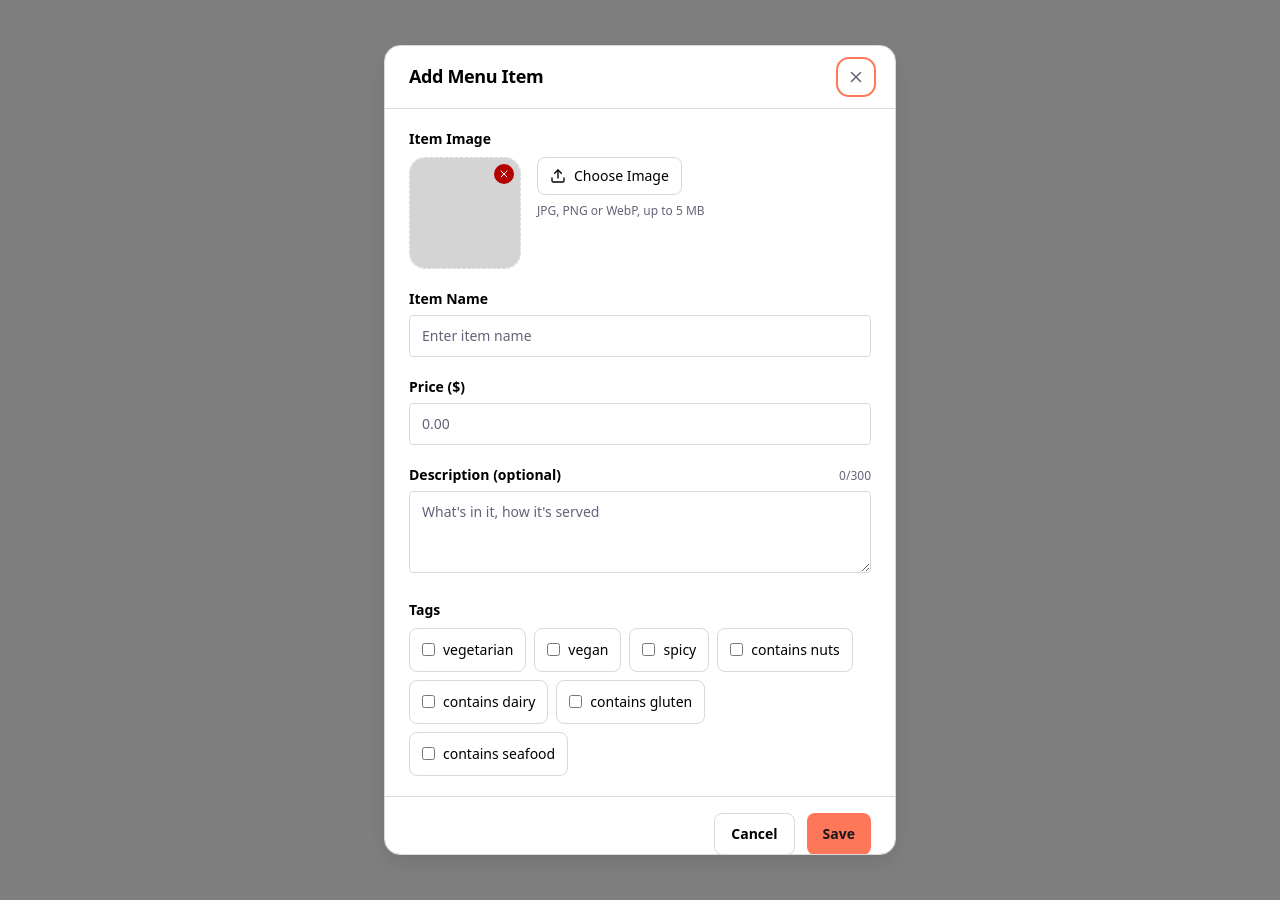
adding an item with a photo (PHOTOS-S3) › shows the server's reason when signing is refused, and does not post or save
Earlier steps of the test are not shown.
Step 1. Type "Fish Amok" into the field with placeholder "Enter item name" → (640, 336), box [409,315,871,357]
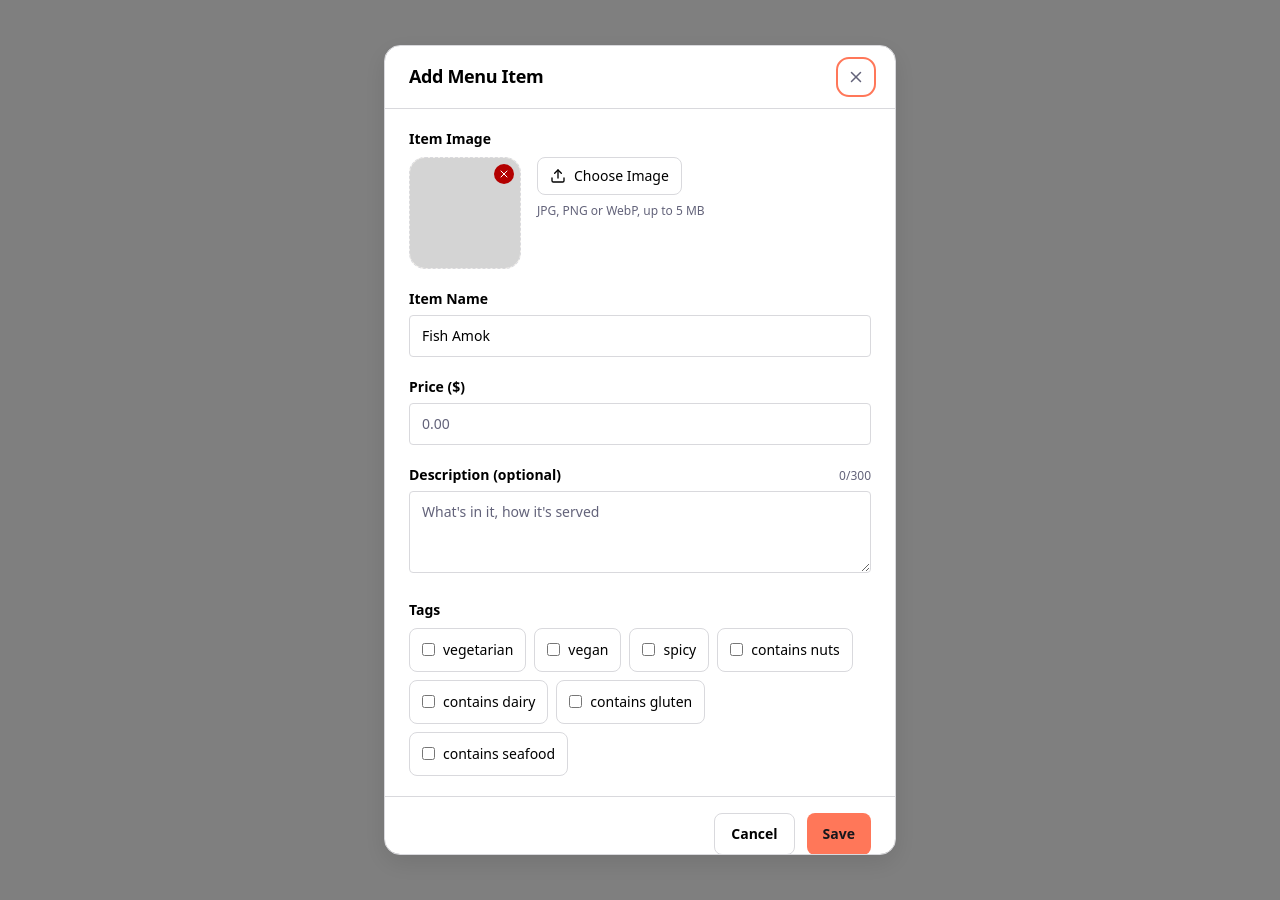
Step 2. Type "5.5" into the number field with placeholder "0.00" → (640, 424), box [409,403,871,445]
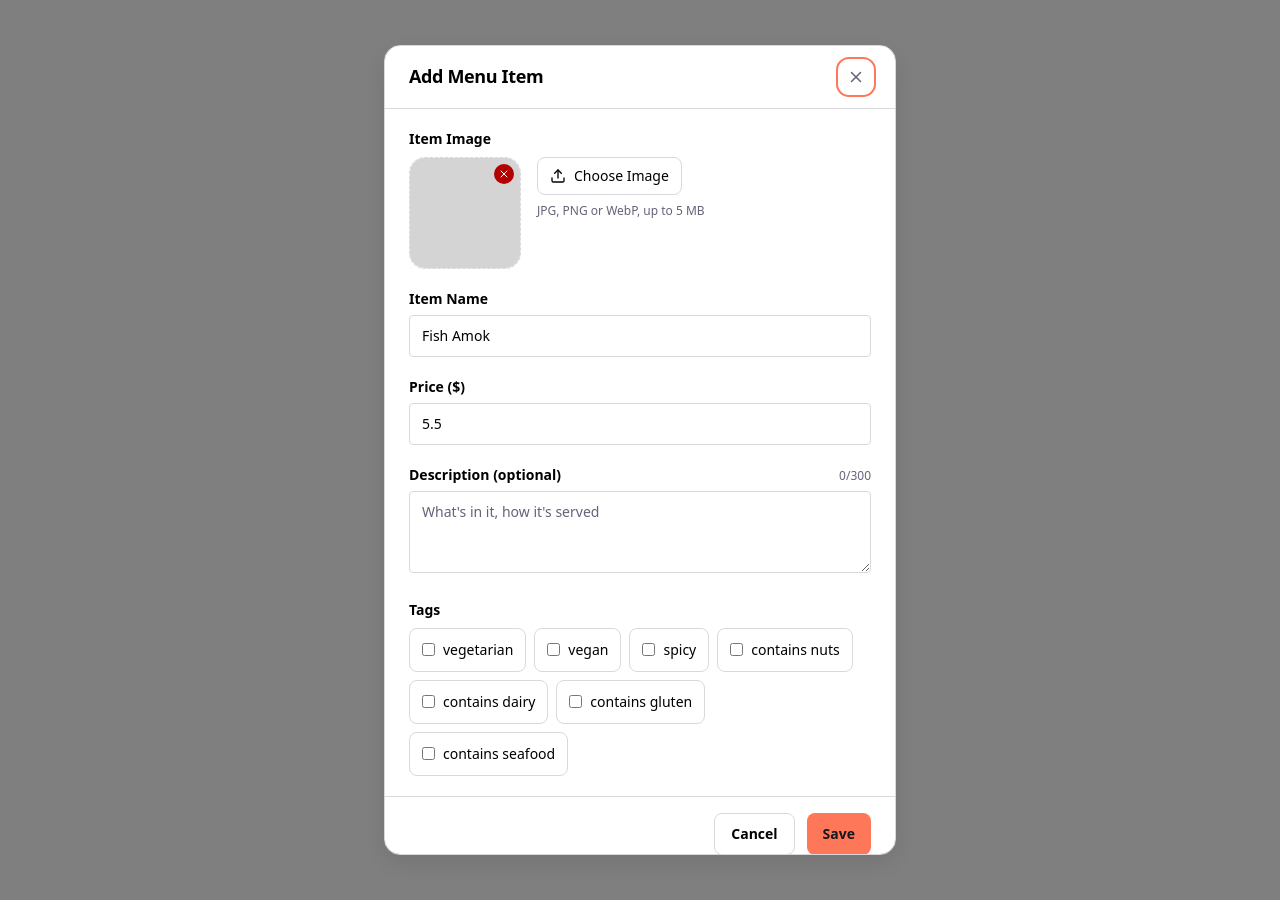
Step 3. Click the button "Save" → (839, 834), box [807,813,871,855]
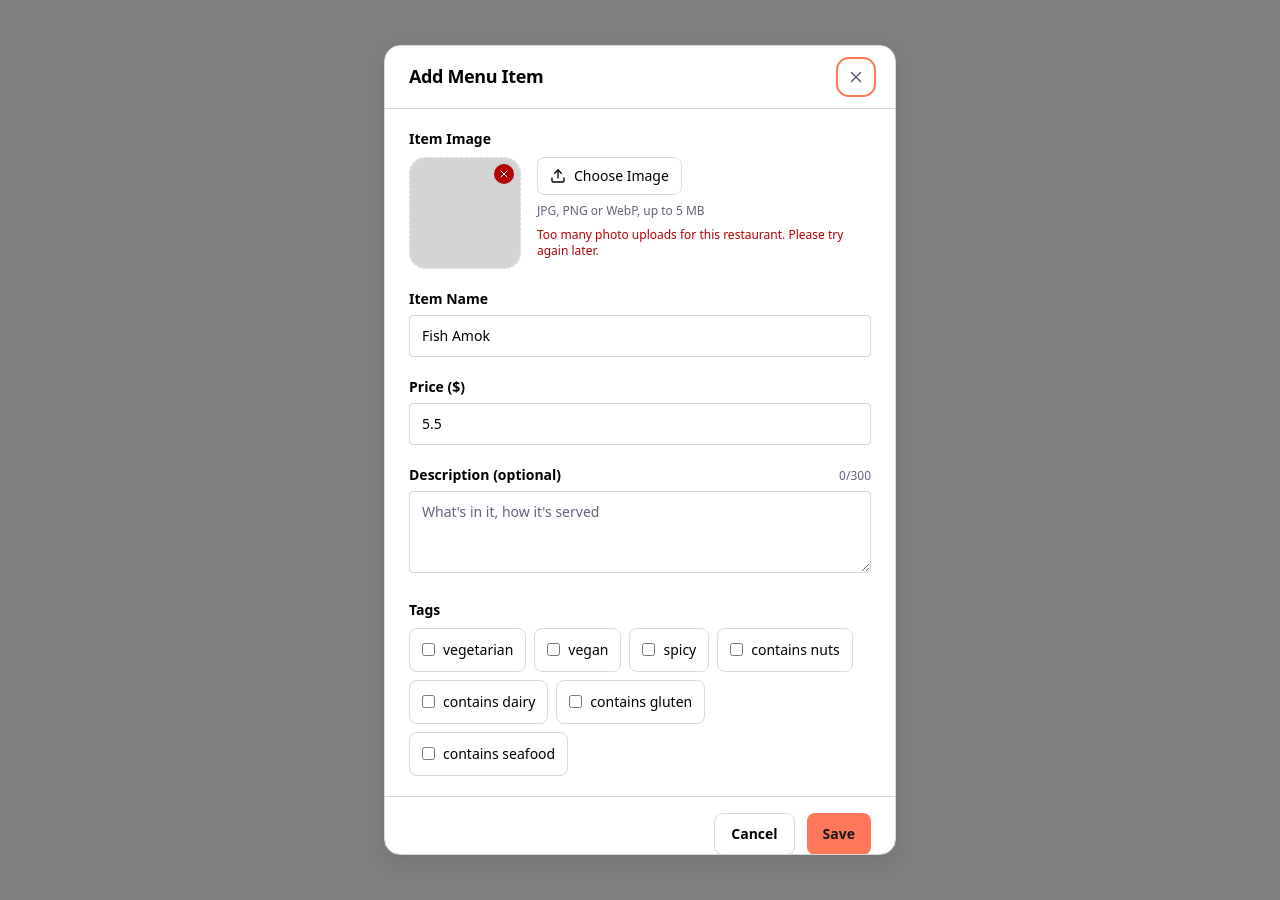
Check: the message shows "Too many photo uploads", box [537,226,843,259]
